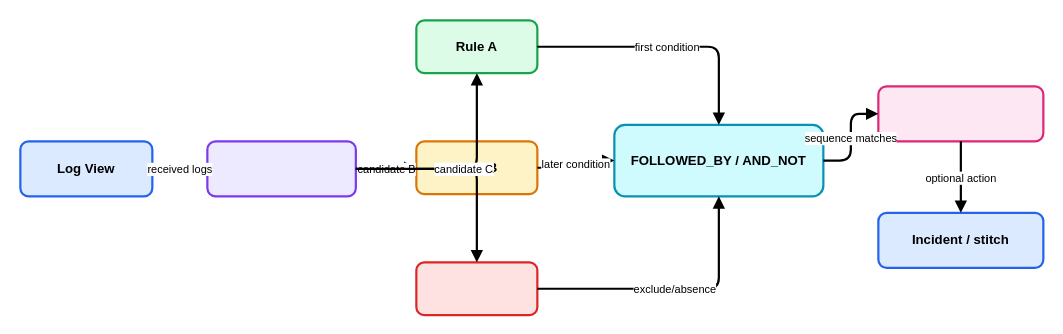
The diagram is 1063 pixels wide and 334 high, and some of its shapes have lost their labels. The centre of each missing label's shape, as x and y in pixels:
"Data selector" goes at (281,168).
"Generated event" goes at (960,113).
"Rule C" goes at (476,288).
